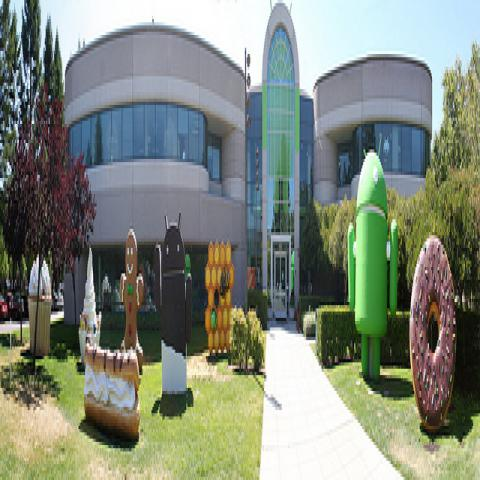car: (13, 292, 24, 318), (6, 290, 13, 318), (55, 289, 64, 309), (0, 295, 8, 317)
